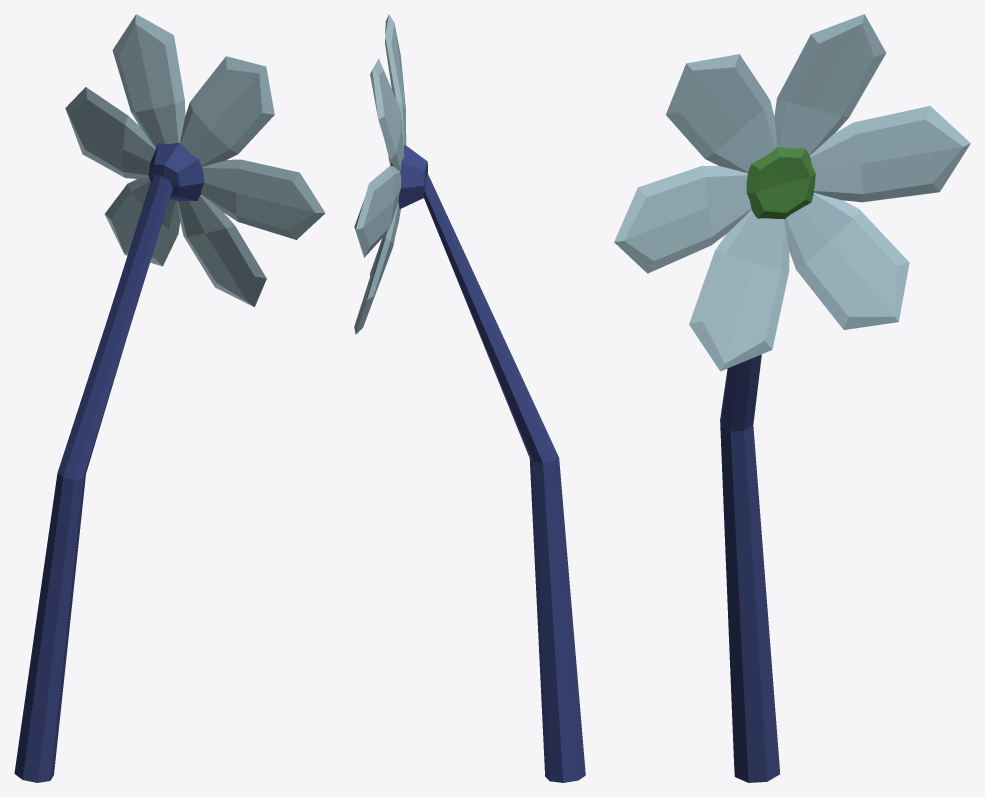
The model's file is Kitchen_Flower.fbx.
The picture shows the model from 3 angles, left to right: view 1: azimuth 30°, elevation 25°; view 2: azimuth 150°, elevation 25°; view 3: azimuth 270°, elevation 25°; orthographic projection. The views are drawn at different scales.
Visible parts, largest first — view 1: Kitchen_Flower; view 2: Kitchen_Flower; view 3: Kitchen_Flower.
Boxes of the visible parts, box(x1,y1,x2,y2) form: Kitchen_Flower: box(14, 14, 325, 782); Kitchen_Flower: box(354, 14, 585, 782); Kitchen_Flower: box(614, 14, 970, 782).
Size of the model in its own units: 21.48 by 57.29 by 21.9.
